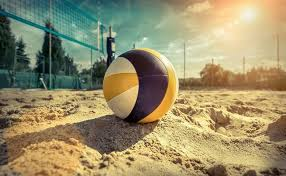ball: (103, 48, 179, 123)
